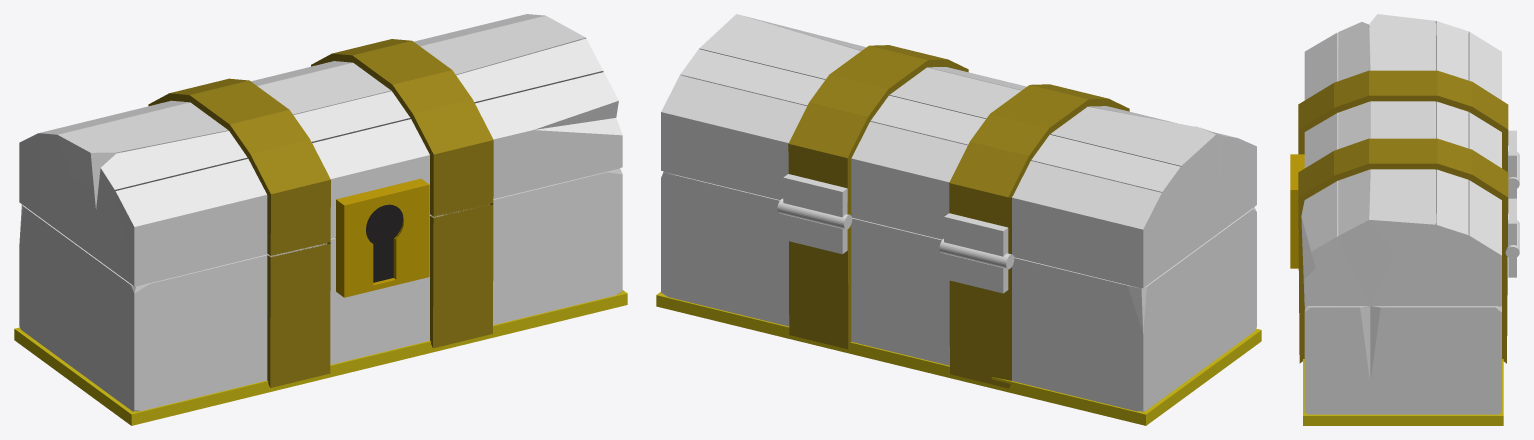
The model's file is сундук.fbx.
The picture shows the model from 3 angles, left to right: view 1: azimuth 30°, elevation 25°; view 2: azimuth 150°, elevation 25°; view 3: azimuth 270°, elevation 25°; orthographic projection. The views are drawn at different scales.
Visible parts, largest first — view 1: Cube, Cube.001, Cube.002, Cube.003, Plane.001; view 2: Cube, Cube.001, Cube.004, Cube.003; view 3: Cube, Cube.001, Cube.003, Cube.004, Cube.002.
Part boxes in pixels (x1,y1,x2,y2): Cube: (19,14,622,411); Cube.001: (148,39,493,387); Cube.002: (335,178,429,297); Cube.003: (14,290,627,425); Plane.001: (366,204,403,282); Cube: (661,14,1256,411); Cube.001: (788,45,1129,388); Cube.004: (777,174,1014,293); Cube.003: (656,292,1261,425); Cube: (1301,14,1501,414); Cube.001: (1298,70,1508,363); Cube.003: (1303,359,1503,425); Cube.004: (1505,130,1519,277); Cube.002: (1290,154,1304,268).
Bounding box in the file's own units: 308 × 143 × 144.
